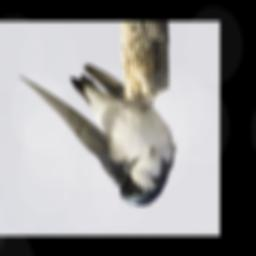Swallow: (19, 62, 178, 208)
